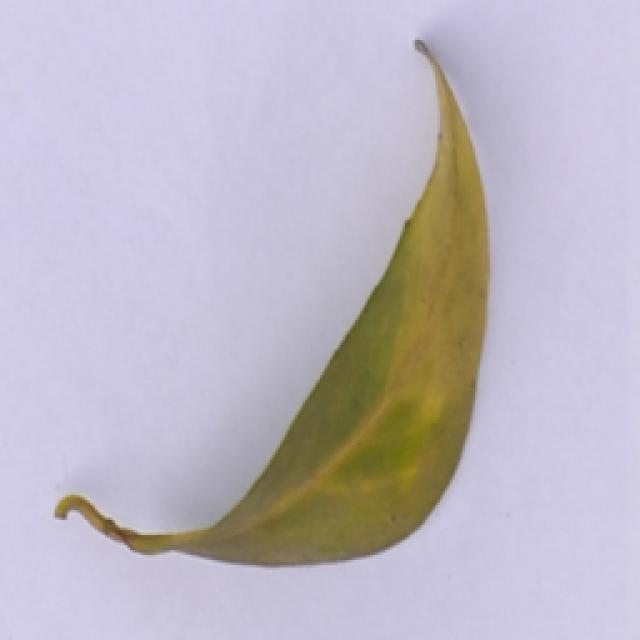greening: (54, 32, 495, 565)
